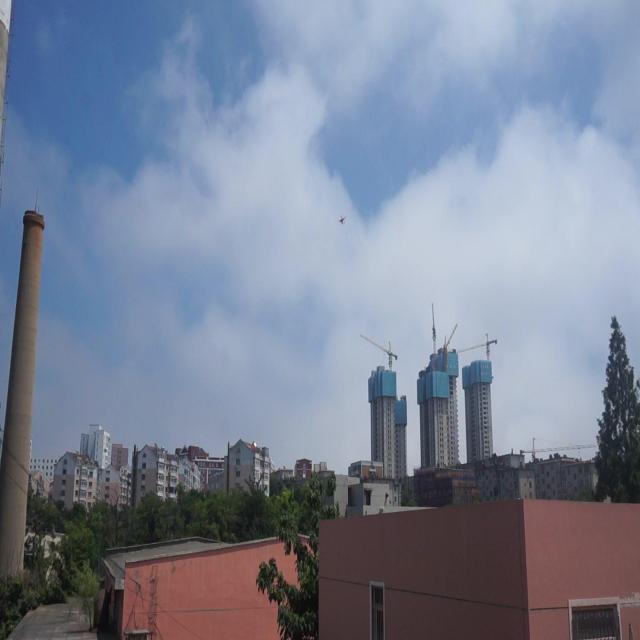drone: (337, 215, 346, 226)
